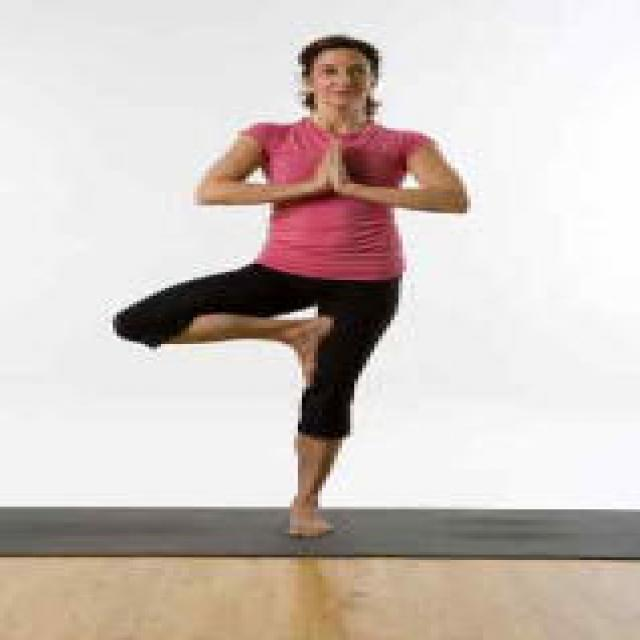yoga-pose tree: (108, 34, 470, 548)
